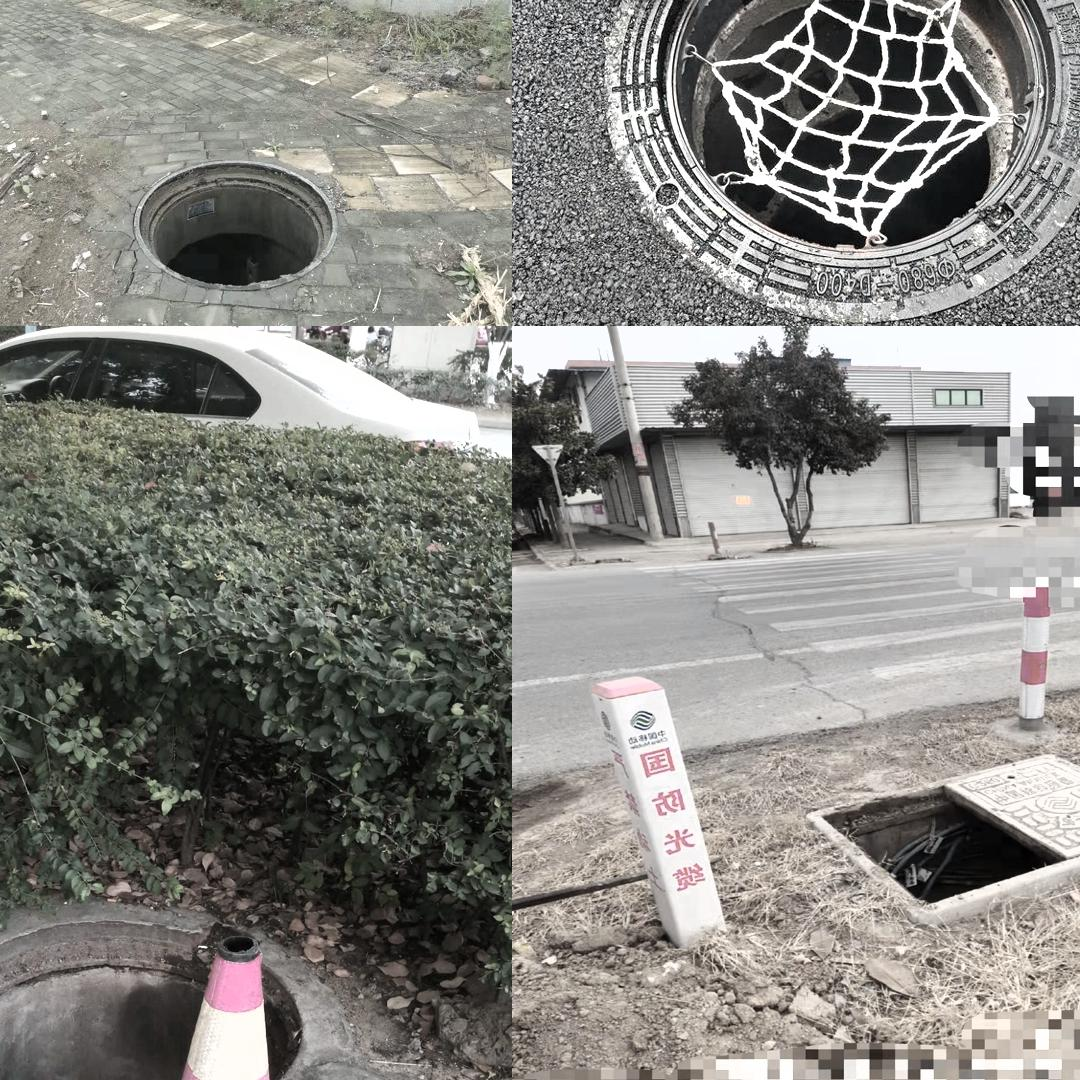lose: (604, 0, 1080, 312), (784, 737, 1080, 921), (0, 920, 307, 1080), (134, 158, 337, 290)
